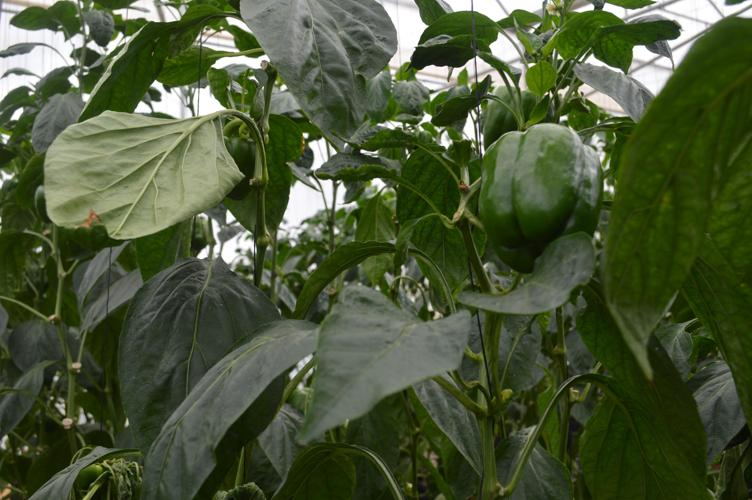BellPepper: (464, 123, 607, 270), (470, 67, 561, 144)
